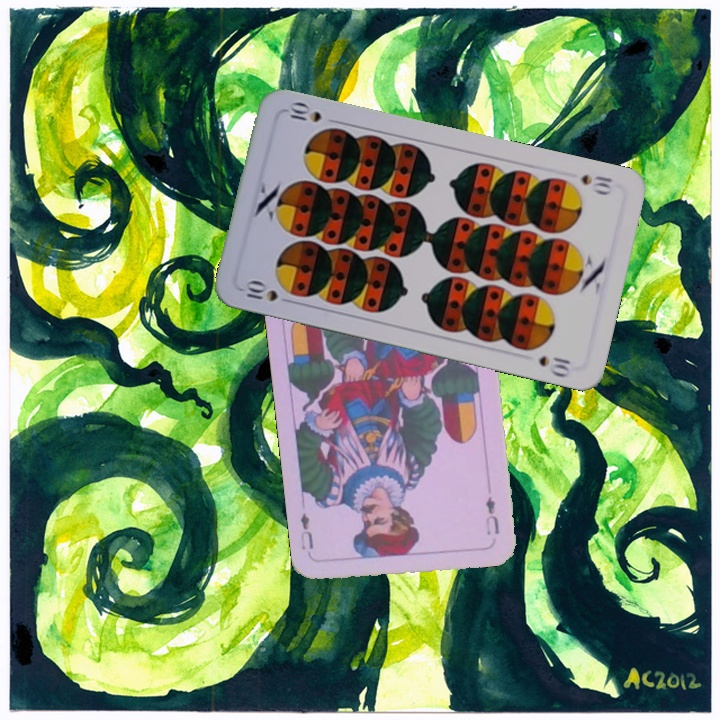EU: (481, 493, 502, 537)
S10: (238, 277, 281, 304), (577, 170, 616, 198)
